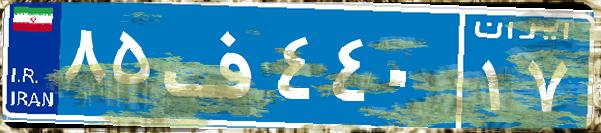0: (385, 28, 445, 110)
1: (475, 38, 525, 113)
4: (273, 28, 330, 110), (330, 28, 385, 110)
5: (110, 28, 158, 105)
7: (525, 38, 570, 115)
8: (57, 26, 110, 107)
ف: (158, 15, 273, 115)
